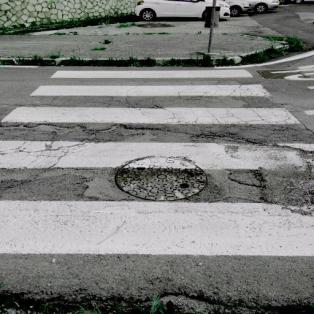Paso de Cebra: (0, 138, 313, 262), (0, 82, 302, 128)
